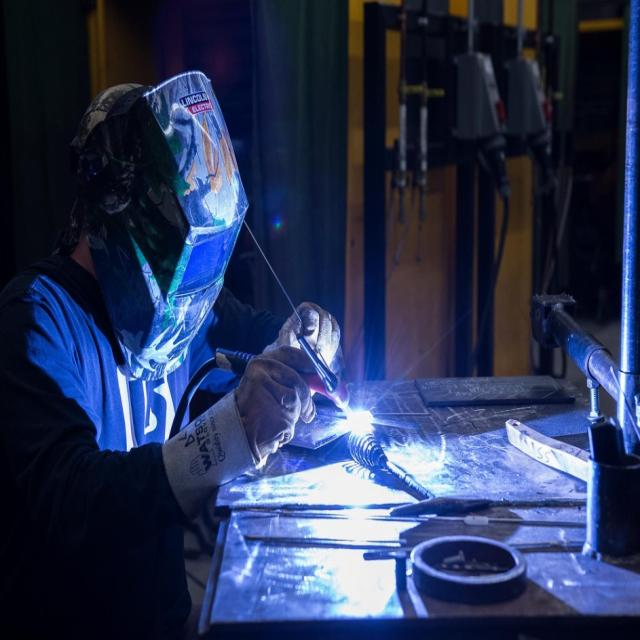welding: (343, 404, 377, 434)
